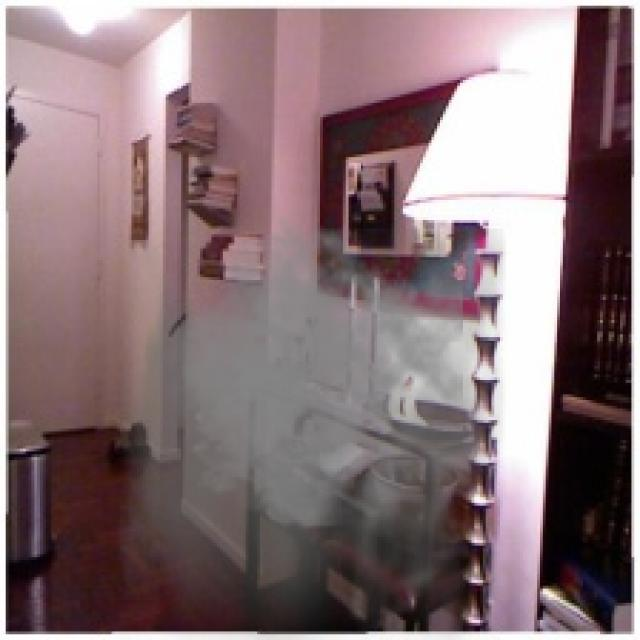smoke: (117, 214, 509, 637)
